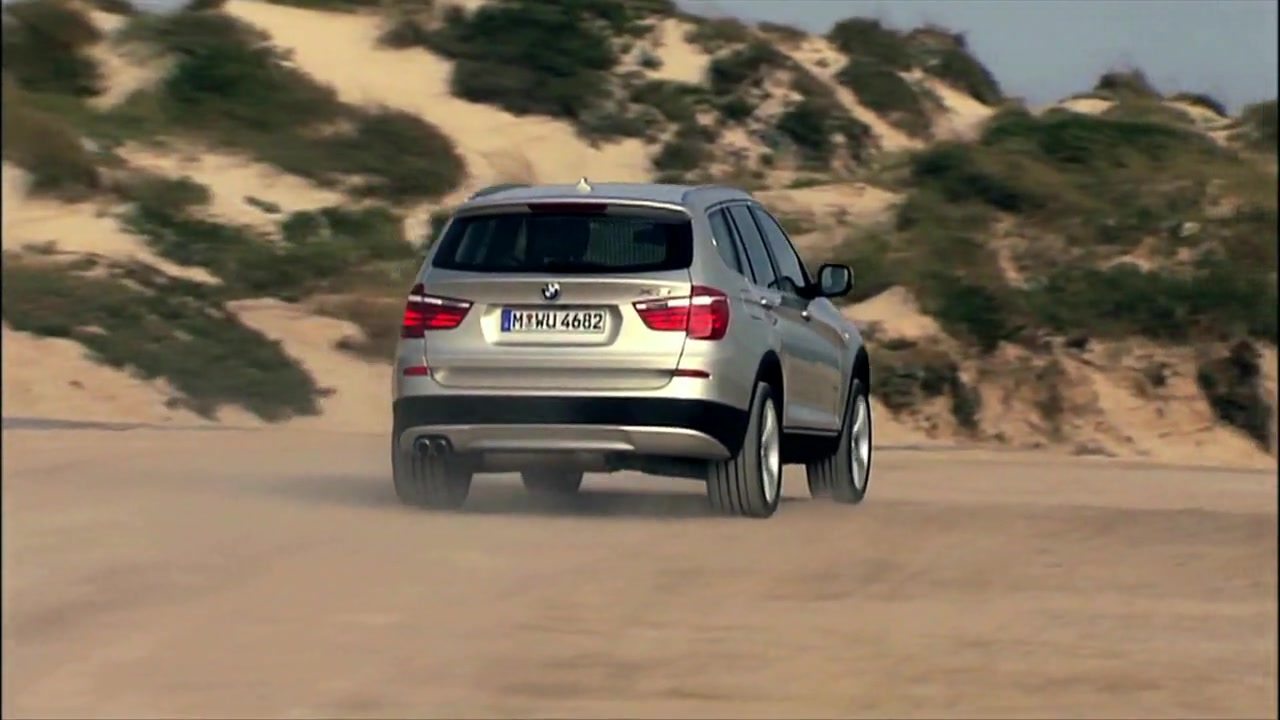car: (387, 185, 878, 523)
